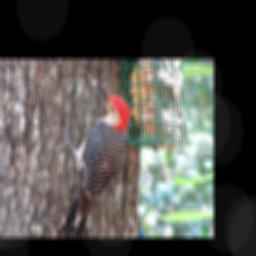Woodpecker: (52, 80, 130, 236)
